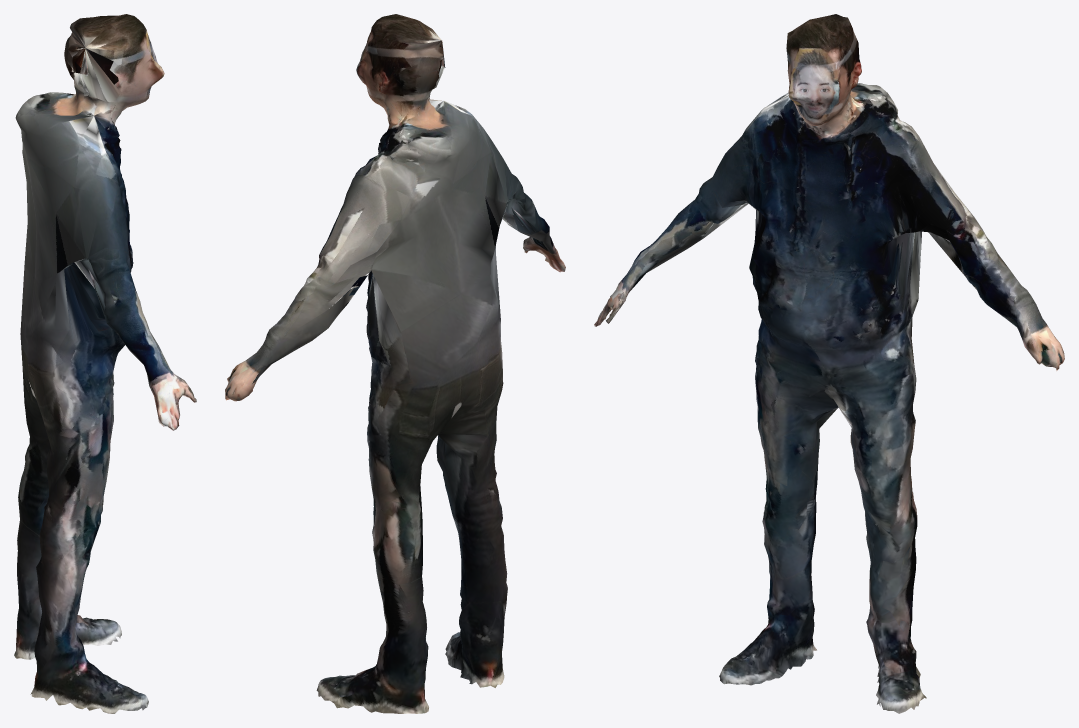
The model's file is Dorion2.glb.
The picture shows the model from 3 angles, left to right: view 1: azimuth 30°, elevation 25°; view 2: azimuth 150°, elevation 25°; view 3: azimuth 270°, elevation 25°; orthographic projection. The views are drawn at different scales.
Parts seen in each view (by area): view 1: Mesh_0.001; view 2: Mesh_0.001; view 3: Mesh_0.001.
Part boxes in pixels (bbox=[...]): Mesh_0.001: bbox=[14, 14, 196, 713]; Mesh_0.001: bbox=[225, 14, 565, 713]; Mesh_0.001: bbox=[594, 14, 1064, 713].
Size of the model in its own units: 0.4401 by 1.74 by 1.11.
Materials: 1 (1 with a texture image).
